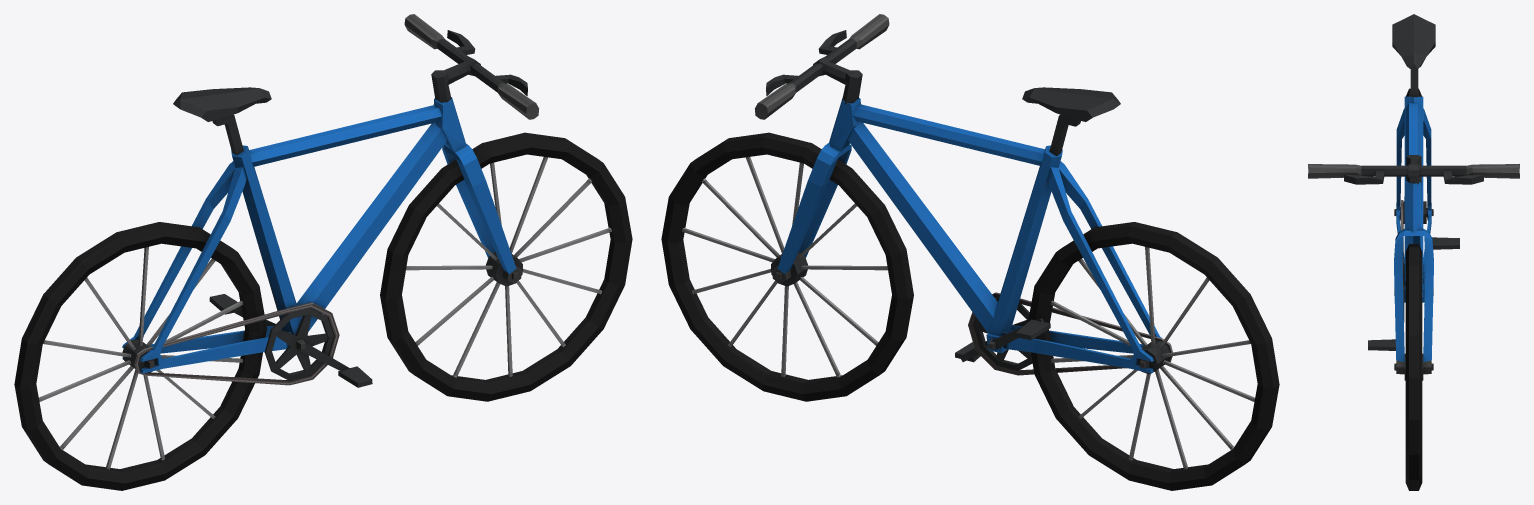
File: bicycle.glb
3 views of the same model, side by side, from view 1: azimuth 30°, elevation 25°; view 2: azimuth 150°, elevation 25°; view 3: azimuth 270°, elevation 25° (orthographic). The views are drawn at different scales.
Visible parts, largest first — view 1: Bike_mesh; view 2: Bike_mesh; view 3: Bike_mesh.
Boxes of the visible parts, <box> form: Bike_mesh: <box>14,14,632,490</box>; Bike_mesh: <box>661,14,1279,490</box>; Bike_mesh: <box>1308,14,1519,490</box>.
Bounding box in the file's own units: 3.61 × 2.11 × 1.24.
1 material, 1 textured.
